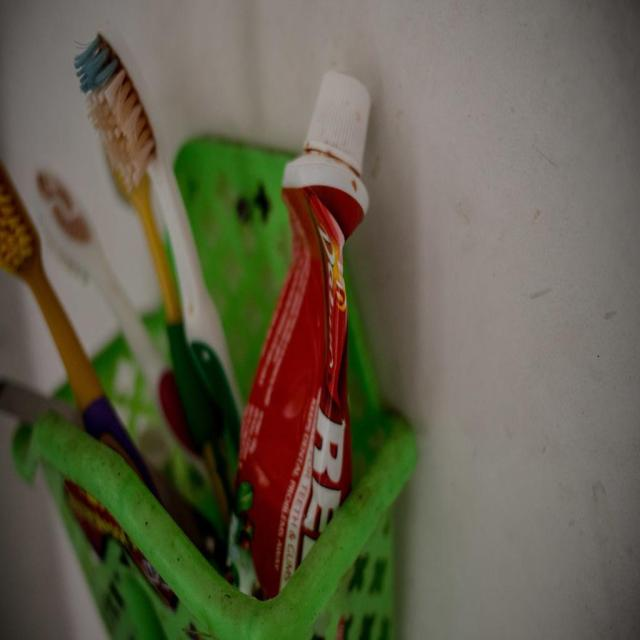Toothpaste: (230, 50, 392, 609)
